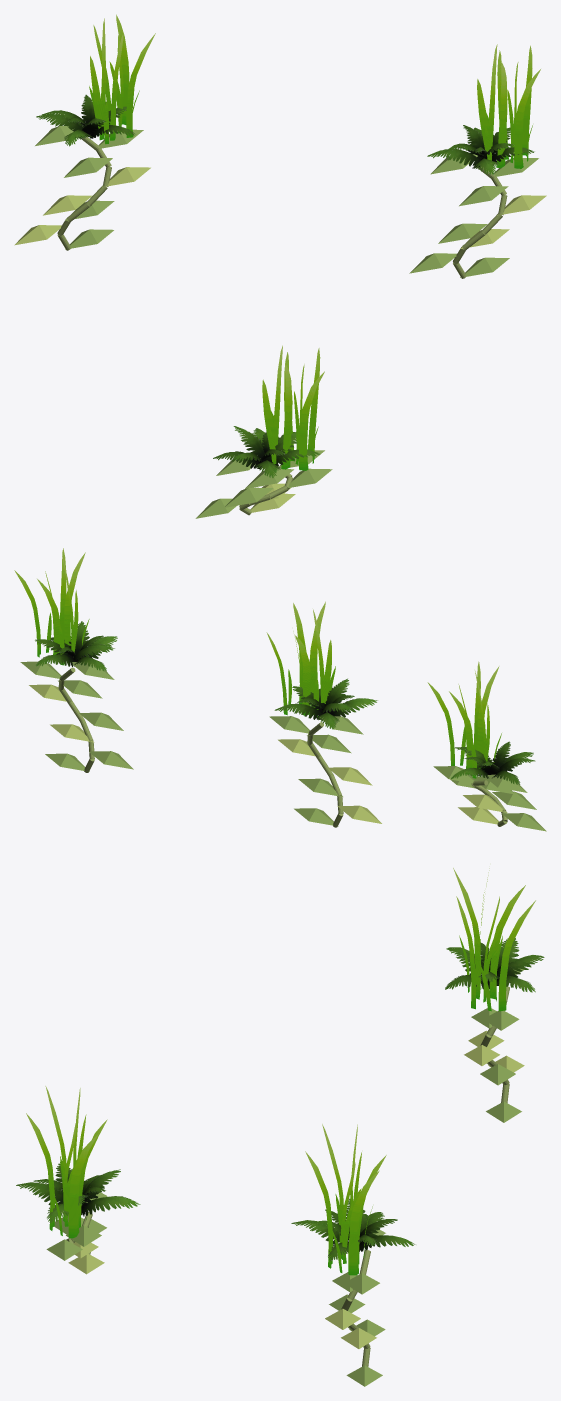
The model's file is Old_Stone_Steps_Greenery.glb.
The picture shows the model from 3 angles, top to bottom: view 1: azimuth 30°, elevation 25°; view 2: azimuth 150°, elevation 25°; view 3: azimuth 270°, elevation 25°; orthographic projection. The views are drawn at different scales.
Visible parts, largest first — view 1: Patch_001, Patch_002, Patch_000; view 2: Patch_002, Patch_001, Patch_000; view 3: Patch_002, Patch_001, Patch_000.
Boxes of the visible parts, bbox=[...] form: Patch_001: bbox=[409, 44, 546, 278]; Patch_002: bbox=[14, 14, 155, 250]; Patch_000: bbox=[195, 345, 332, 518]; Patch_002: bbox=[266, 601, 381, 827]; Patch_001: bbox=[14, 548, 133, 772]; Patch_000: bbox=[427, 661, 546, 831]; Patch_002: bbox=[445, 868, 544, 1122]; Patch_001: bbox=[291, 1124, 415, 1386]; Patch_000: bbox=[16, 1086, 140, 1274].
Bounding box in the file's own units: 2.21 × 1.65 × 1.92.
Materials: 5 (2 with a texture image).
